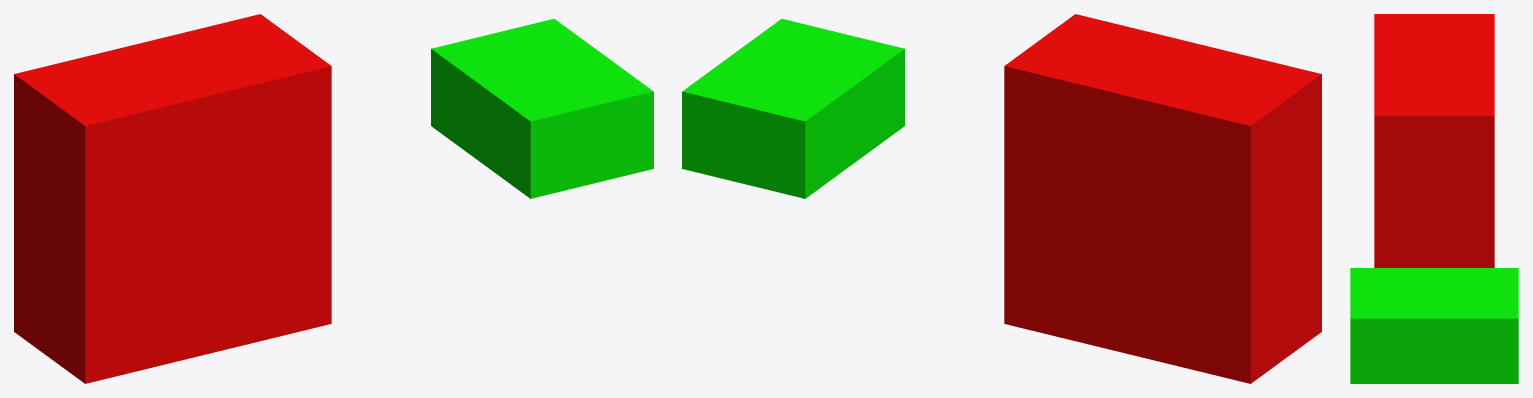
File: parts.glb
3 views of the same model, side by side, from view 1: azimuth 30°, elevation 25°; view 2: azimuth 150°, elevation 25°; view 3: azimuth 270°, elevation 25° (orthographic). The views are drawn at different scales.
Parts seen in each view (by area): view 1: Body, Collar; view 2: Body, Collar; view 3: Body, Collar.
Boxes of the visible parts, <box> form: Body: <box>14,14,331,383</box>; Collar: <box>431,19,653,198</box>; Body: <box>1004,14,1321,383</box>; Collar: <box>682,19,904,198</box>; Body: <box>1374,14,1494,267</box>; Collar: <box>1350,268,1518,383</box>.
Size of the model in its own units: 4.5 by 2 by 1.4.
